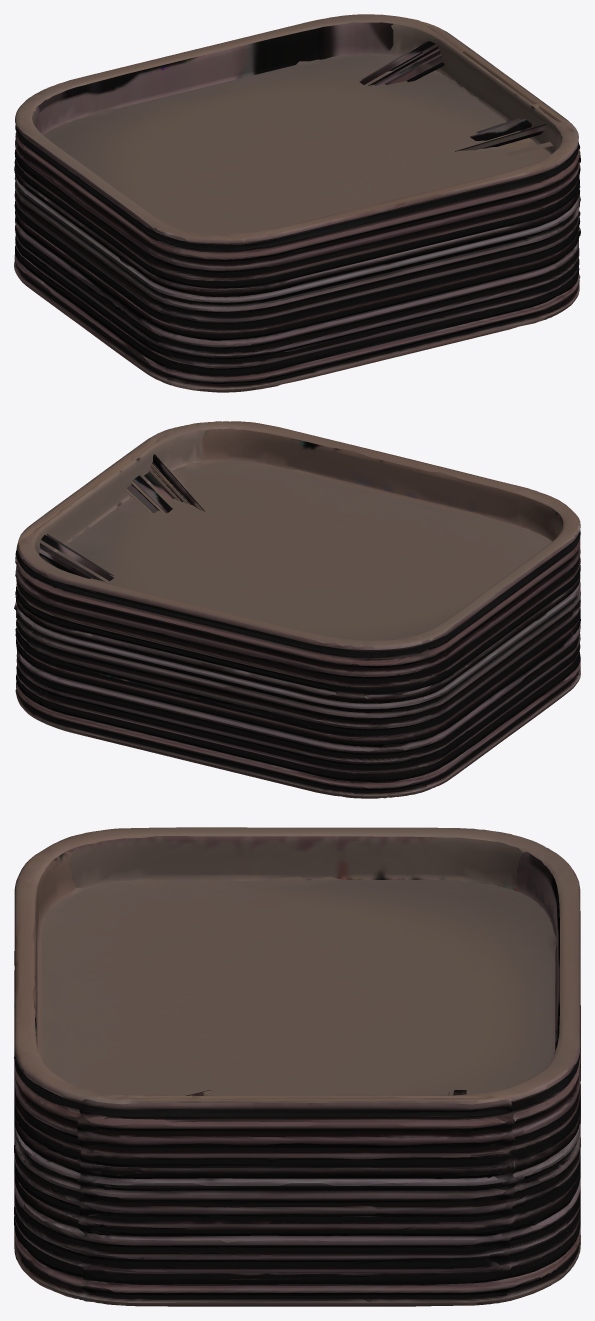
The picture shows the model from 3 angles, top to bottom: view 1: azimuth 30°, elevation 25°; view 2: azimuth 150°, elevation 25°; view 3: azimuth 270°, elevation 25°; orthographic projection. The views are drawn at different scales.
Parts seen in each view (by area): view 1: tmpd4fi1tl7.ply; view 2: tmpd4fi1tl7.ply; view 3: tmpd4fi1tl7.ply.
Boxes of the visible parts, left/top/right/bottom form: tmpd4fi1tl7.ply: left=14, top=14, right=580, bottom=392; tmpd4fi1tl7.ply: left=14, top=421, right=580, bottom=798; tmpd4fi1tl7.ply: left=14, top=827, right=580, bottom=1306.
Size of the model in its own units: 196 by 68.14 by 170.
1 material, 1 textured.
